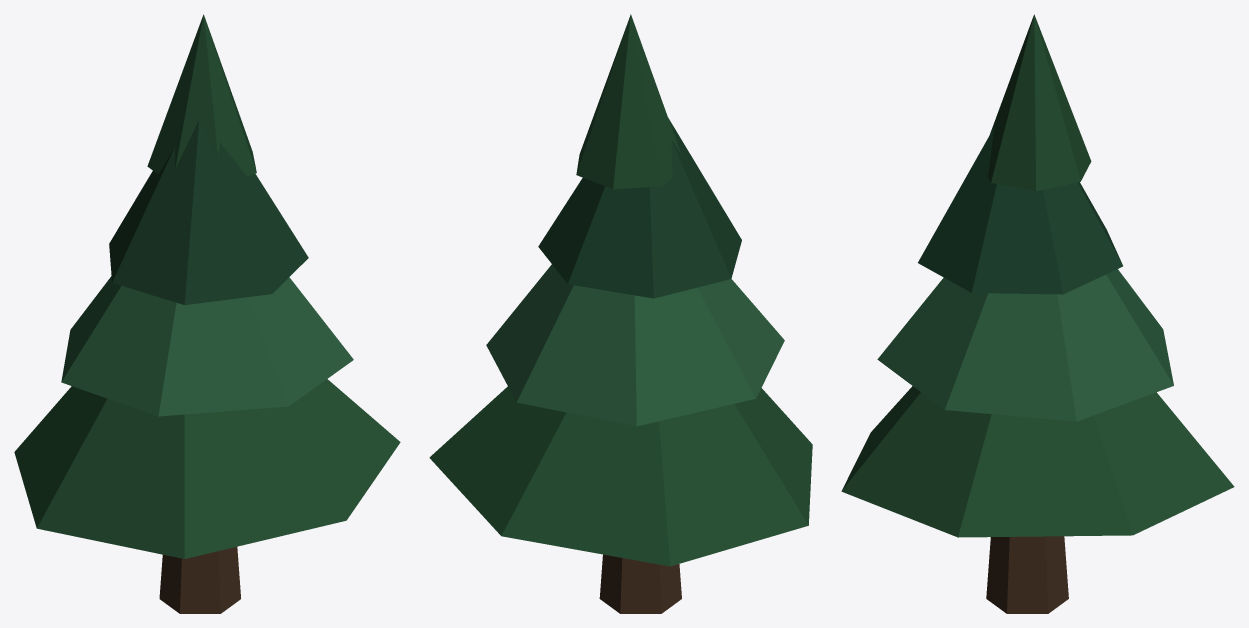
Rendered from pine_b.glb.
3 renders of one model, left to right at view 1: azimuth 30°, elevation 25°; view 2: azimuth 150°, elevation 25°; view 3: azimuth 270°, elevation 25°, orthographic.
Parts seen in each view (by area): view 1: pine_mesh; view 2: pine_mesh; view 3: pine_mesh.
Part boxes in pixels (x1,y1,x2,y2): pine_mesh: [14, 14, 400, 613]; pine_mesh: [429, 14, 812, 613]; pine_mesh: [841, 14, 1234, 613].
Size of the model in its own units: 1.31 by 2.2 by 1.33.
